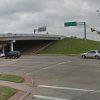Bridge: (3, 26, 59, 47)
